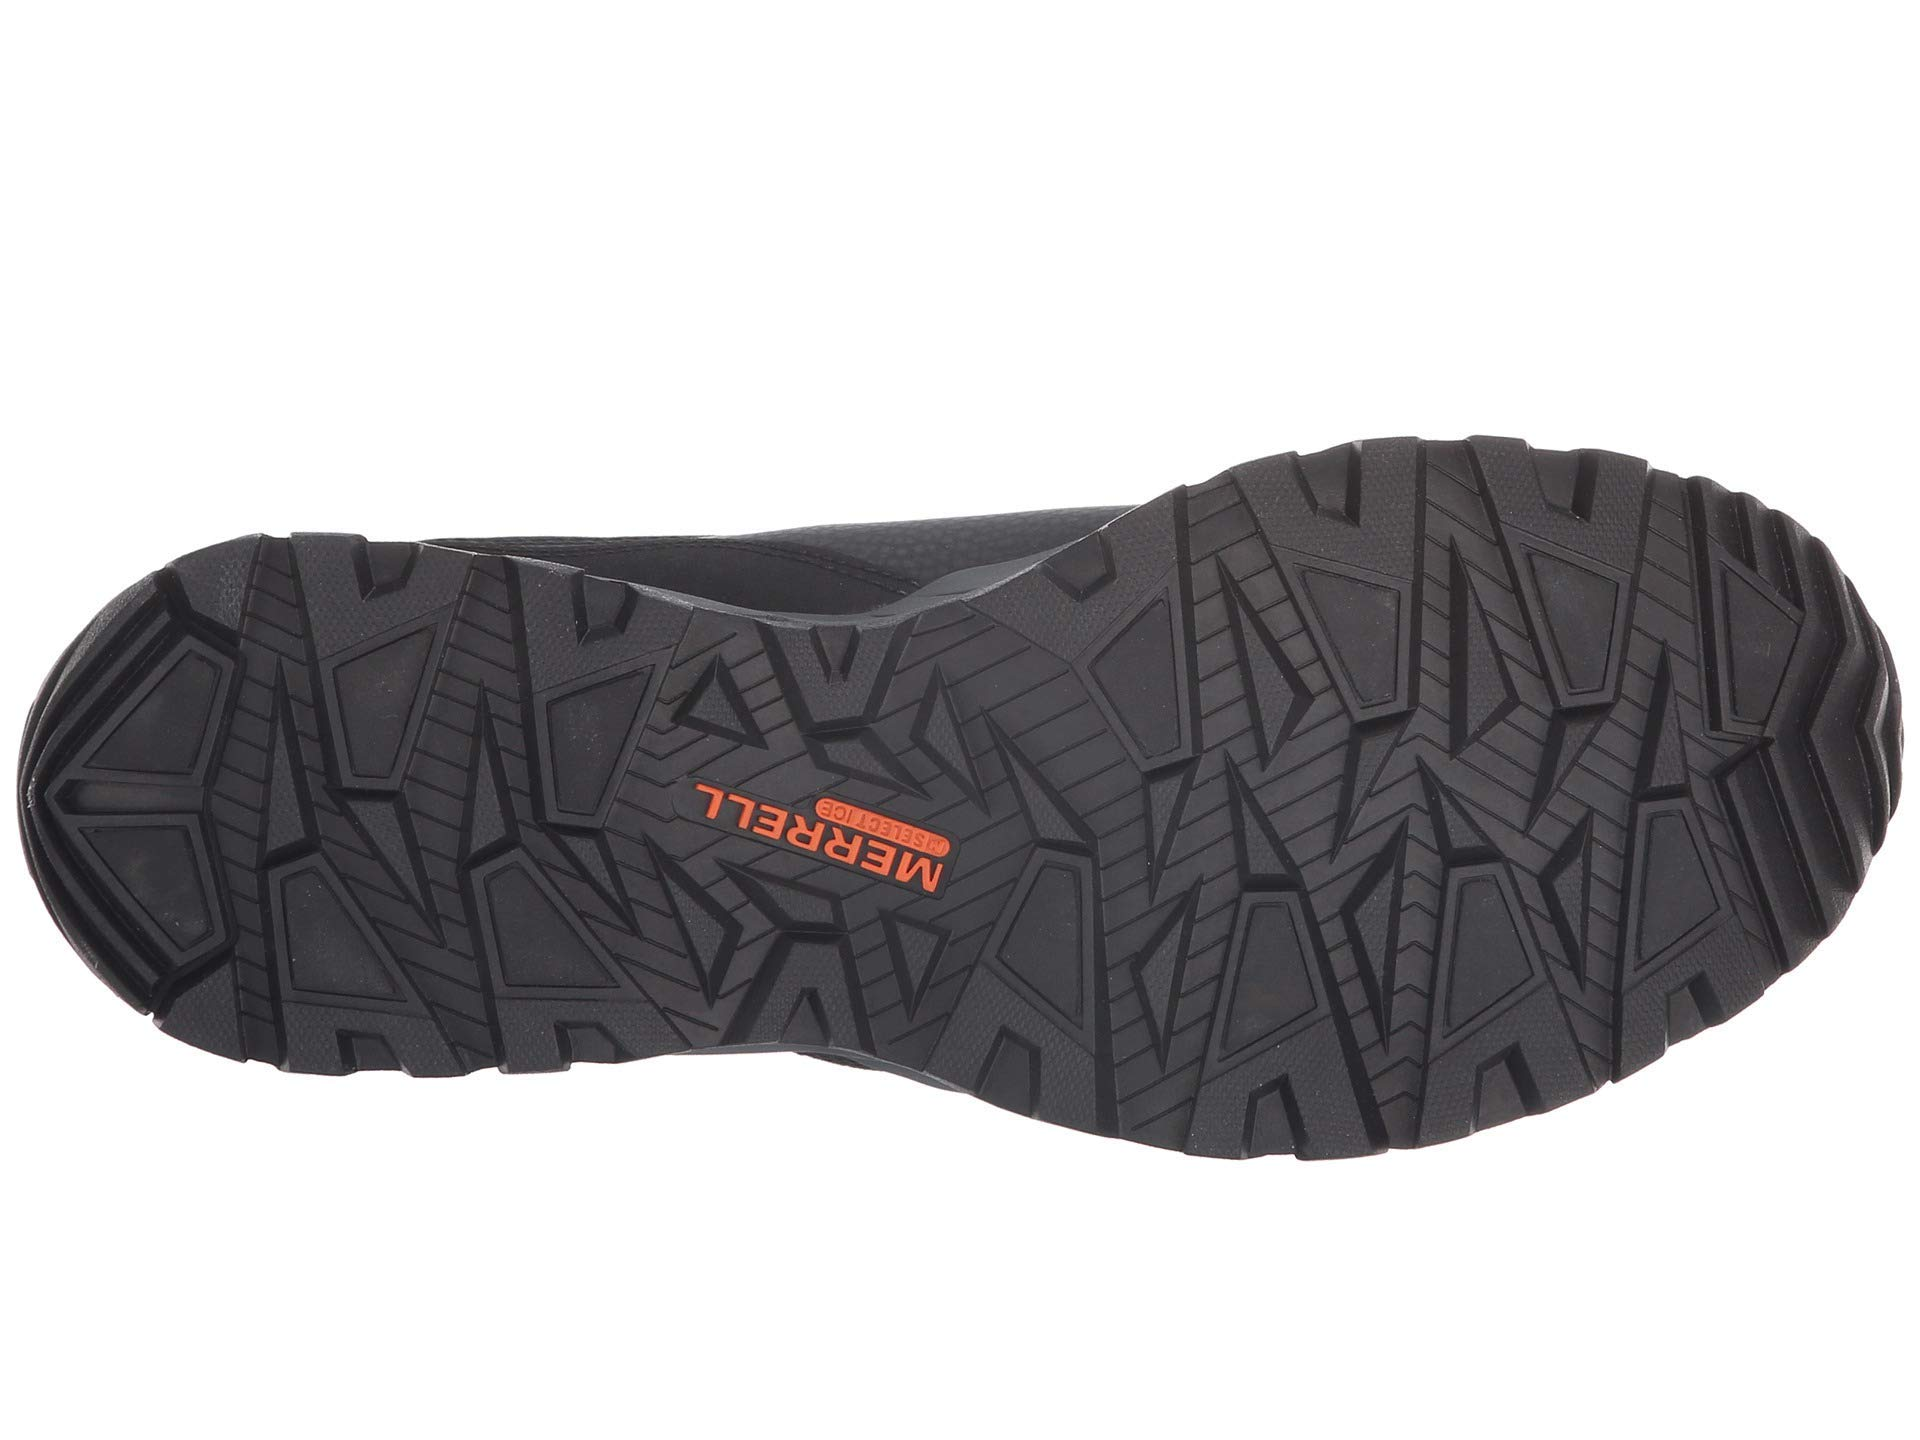line: (1223, 458, 1680, 1001), (148, 623, 534, 954), (664, 756, 1011, 903)
quad: (1223, 458, 1680, 1001), (148, 623, 534, 954)
text: (664, 756, 1011, 903)
triangle: (148, 623, 534, 954)
